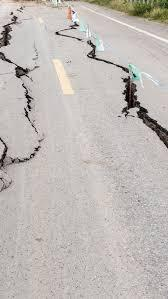Pothole: (50, 0, 168, 168)
